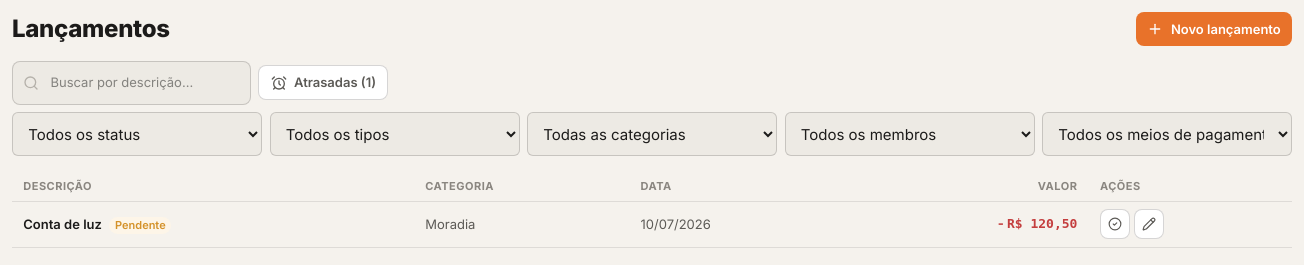
FinanceEntriesPage › shows the overdue entries when toggling the shortcut
This screenshot has width=1304, height=265.
Click the button "Atrasadas (1)" at (323, 83), box [258,65,388,100]
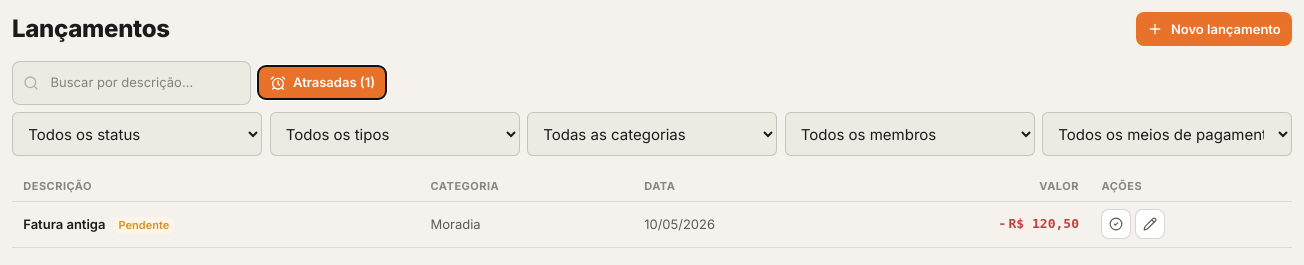
Check: the text "Conta de luz" is gone
